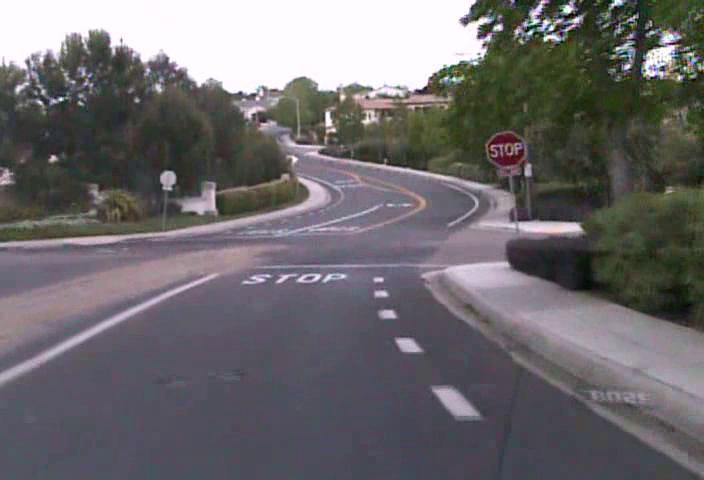stop: (485, 130, 527, 170)
